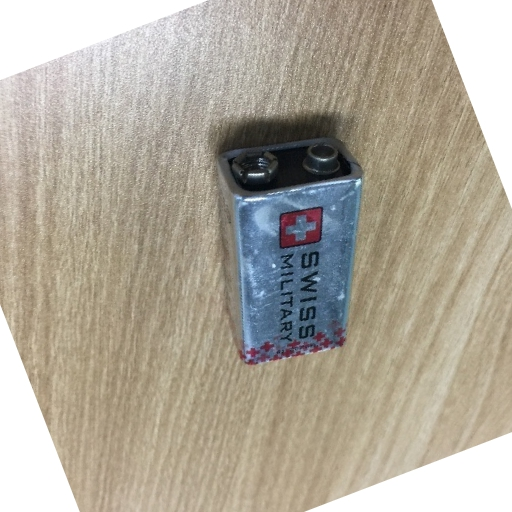Battery_3: (209, 131, 374, 383)
